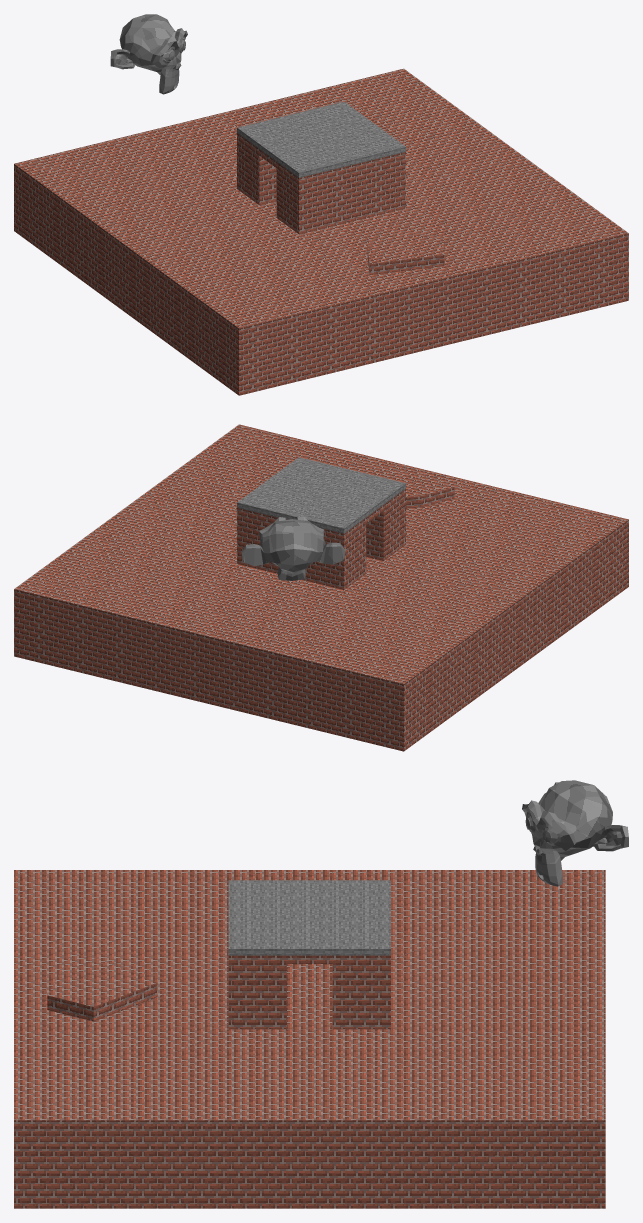
The model's file is House.glb.
3 views of the same model, one above another, from view 1: azimuth 30°, elevation 25°; view 2: azimuth 150°, elevation 25°; view 3: azimuth 270°, elevation 25° (orthographic). The views are drawn at different scales.
Visible parts, largest first — view 1: Plane, Suzanne; view 2: Plane, Suzanne; view 3: Plane, Suzanne.
Part boxes in pixels (x1,y1,x2,y2): Plane: (14, 68, 628, 395); Suzanne: (110, 14, 187, 94); Plane: (14, 424, 628, 751); Suzanne: (241, 516, 345, 580); Plane: (14, 870, 605, 1208); Suzanne: (522, 780, 628, 886).
Size of the model in its own units: 40 by 18.71 by 41.58.
Materials: 2 (2 with a texture image).
